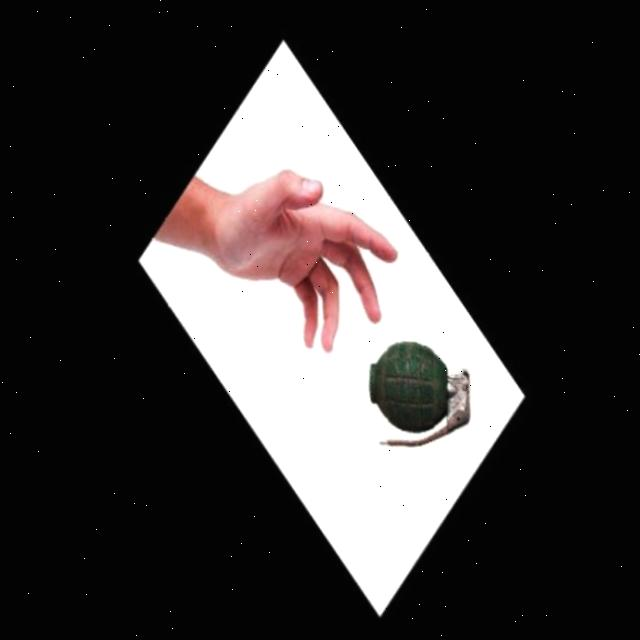grenade: (333, 313, 498, 479)
